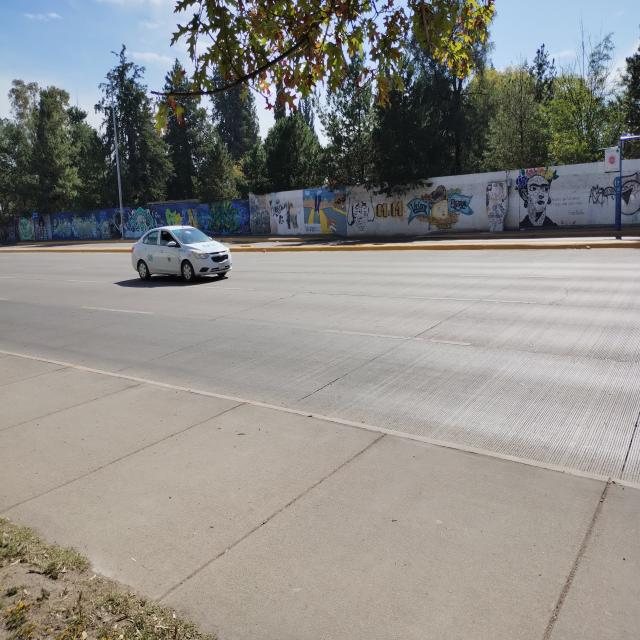Auto: (131, 224, 234, 281)
